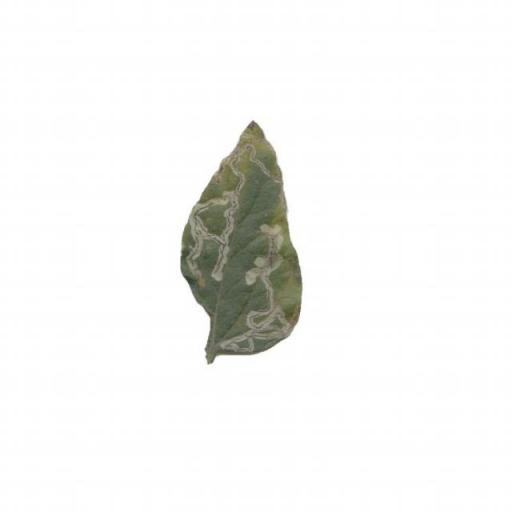Leaf Miner: (180, 118, 306, 364)
